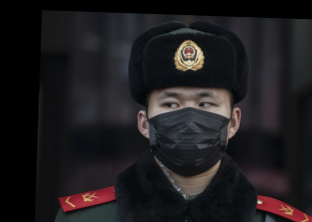with_mask: (146, 88, 232, 176)
